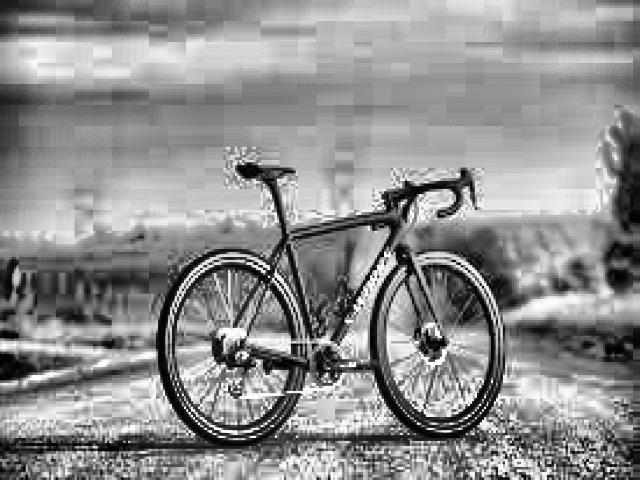cranks_set: (307, 339, 371, 390)
pedal: (358, 354, 381, 373)
rear_derailleur: (227, 345, 256, 402)
saddle: (236, 160, 299, 181)
sti_shifter: (461, 166, 482, 212)
wheel: (156, 248, 308, 446), (370, 251, 509, 443)
